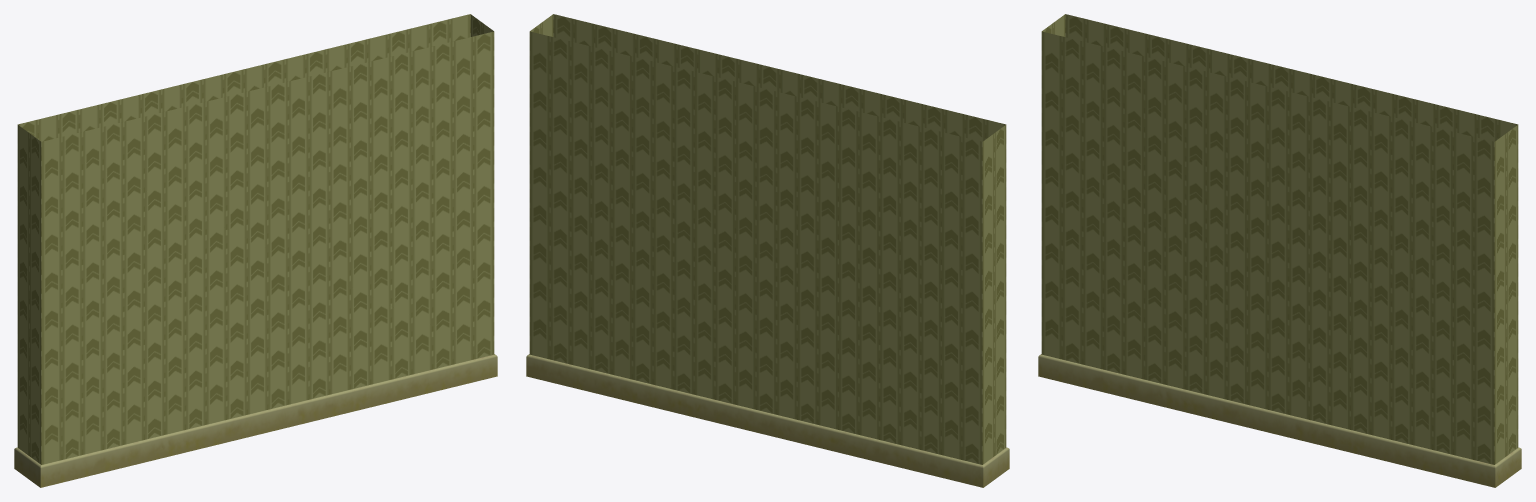
File: WallBottomBase.fbx
3 views of the same model, side by side, from view 1: azimuth 30°, elevation 25°; view 2: azimuth 150°, elevation 25°; view 3: azimuth 330°, elevation 25° (orthographic).
Visible parts, largest first — view 1: WallBottomBase; view 2: WallBottomBase; view 3: WallBottomBase.
Boxes of the visible parts, x1,y1,x2,y2 form: WallBottomBase: (14, 14, 497, 487); WallBottomBase: (526, 14, 1009, 487); WallBottomBase: (1038, 14, 1521, 487).
Size of the model in its own units: 555 by 400 by 55.
